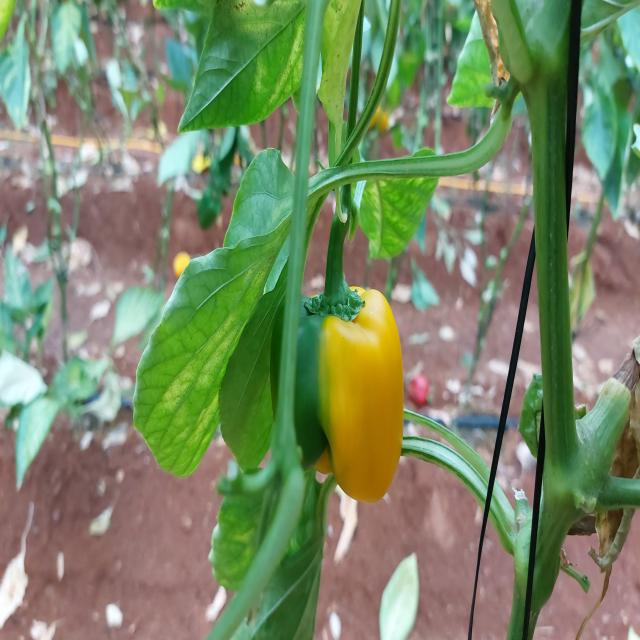GreenishYellow--Can-be-Harvested: (276, 288, 416, 511)
